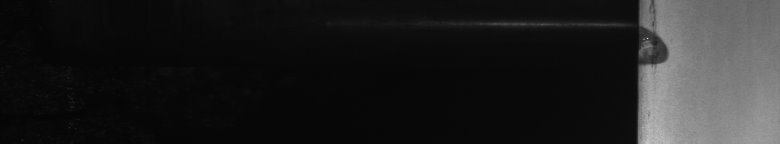hb: (648, 4, 676, 76)
